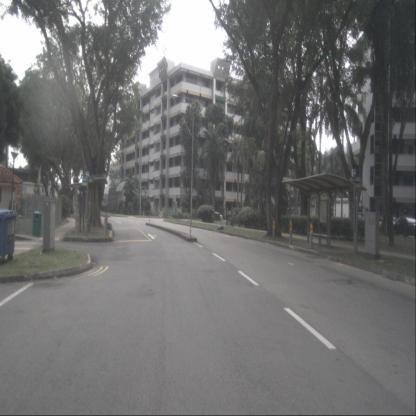human-pedestrian-adult: (225, 206, 229, 227)
vehicle-car: (391, 216, 416, 239)
